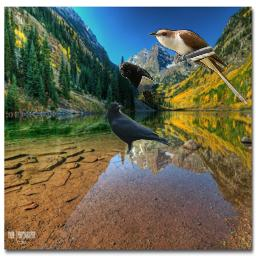Crow: (107, 101, 173, 155), (119, 62, 154, 105)
Cuckoo: (148, 28, 250, 106)
